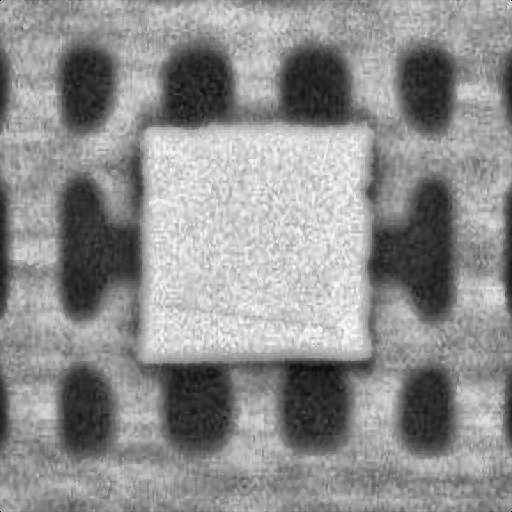DIE_CRACK: (223, 200, 496, 216)
